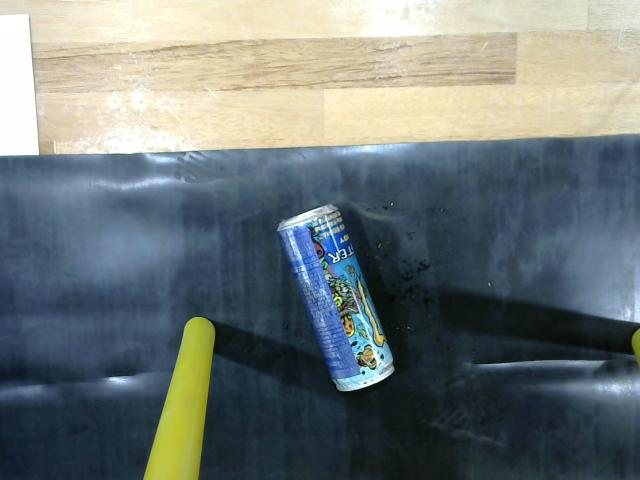can: (272, 199, 396, 393)
